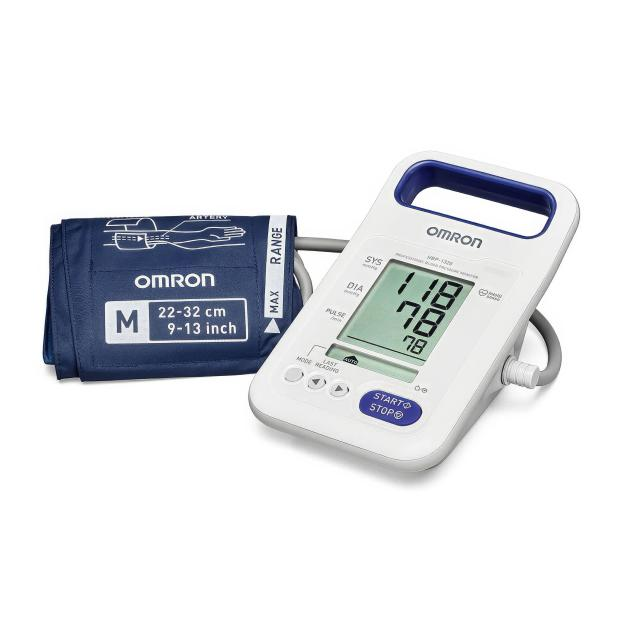dia: (384, 297, 451, 345)
pul: (393, 330, 432, 360)
ssd: (340, 239, 475, 385)
sys: (387, 262, 469, 316)
